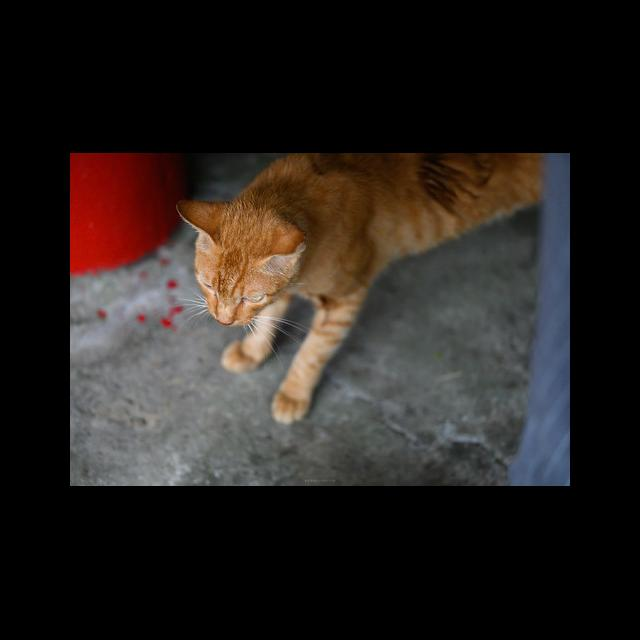animals: (176, 154, 543, 425)
